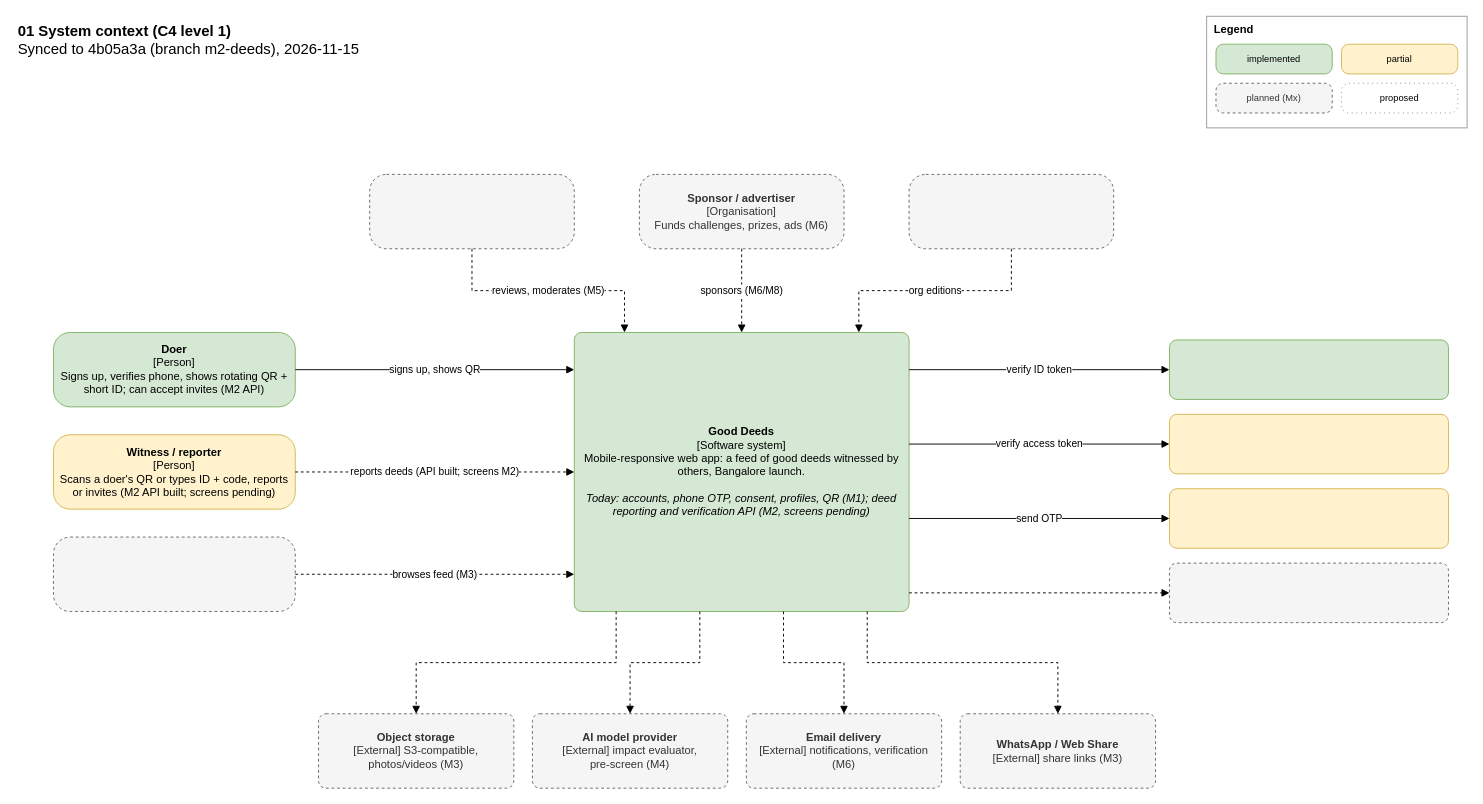
Image size: 1483x804. Some labels were removed from this diagram. Each missing label, with the centre of its shape:
Admin / moderator [Person] Review, overrides, takedowns (M5): the point at 471,211
CAPTCHA (Turnstile / hCaptcha) [External] (pre-launch): the point at 1308,592
Facebook Login [External] sign-in with Facebook: the point at 1308,443
Google Identity Services [External] sign-in with Google: the point at 1308,369
Organisation / NGO [Organisation] Org accounts, editions (unscheduled): the point at 1011,211
SMS gateway [External] phone OTP; today console only: the point at 1308,518
Viewer [Person] Scrolls, likes, comments, shares (M3): the point at 174,573
